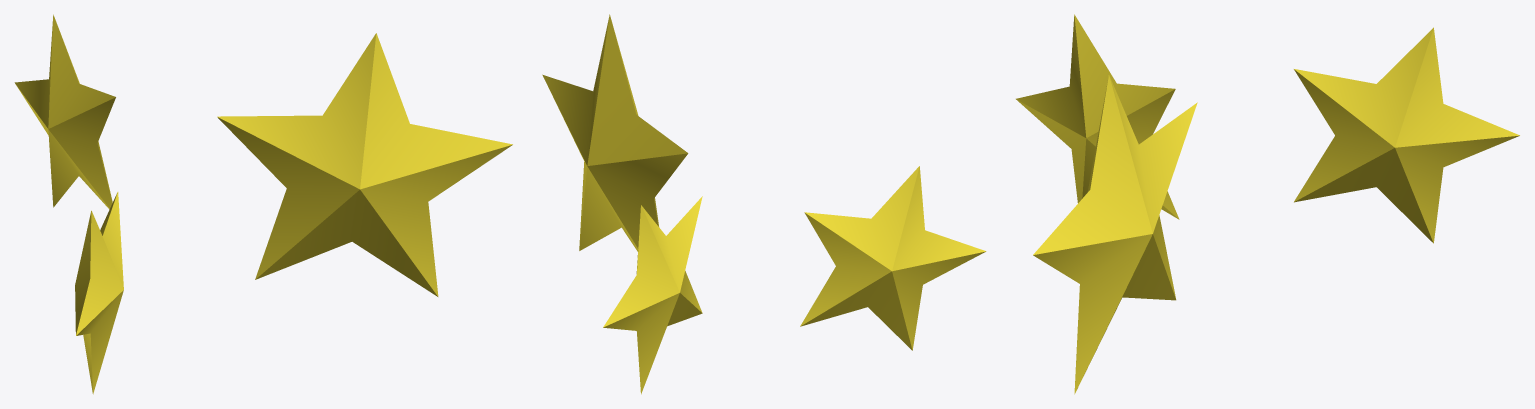
File: Stars.fbx
3 renders of one model, left to right at view 1: azimuth 30°, elevation 25°; view 2: azimuth 150°, elevation 25°; view 3: azimuth 270°, elevation 25°, orthographic. The views are drawn at different scales.
Parts seen in each view (by area): view 1: pCylinder3.003, pCylinder3.002, pCylinder3.001; view 2: pCylinder3.003, pCylinder3.001, pCylinder3.002; view 3: pCylinder3.002, pCylinder3.003, pCylinder3.001.
Part boxes in pixels (<box>): pCylinder3.003: <box>217,33,512,296</box>; pCylinder3.002: <box>14,14,115,209</box>; pCylinder3.001: <box>75,192,123,394</box>; pCylinder3.003: <box>542,14,688,251</box>; pCylinder3.001: <box>800,166,986,350</box>; pCylinder3.002: <box>603,196,702,394</box>; pCylinder3.002: <box>1294,27,1519,243</box>; pCylinder3.003: <box>1033,75,1197,394</box>; pCylinder3.001: <box>1016,14,1179,219</box>.
Bounding box in the file's own units: 143 × 86.13 × 126.
